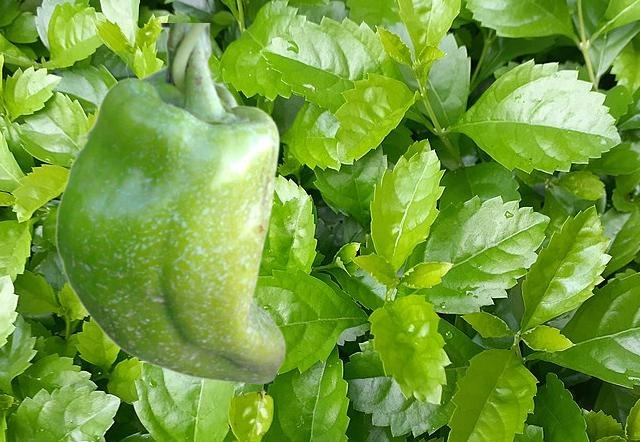bell_pepper: (54, 23, 285, 383)
